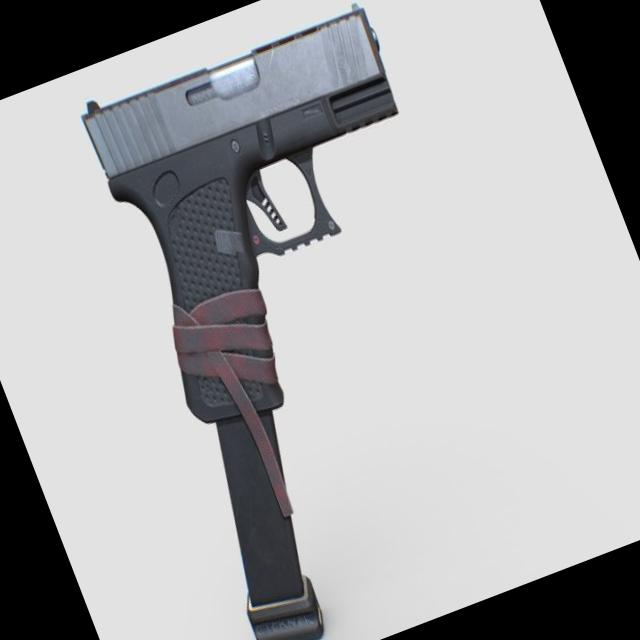Weapon: (66, 0, 503, 461)
